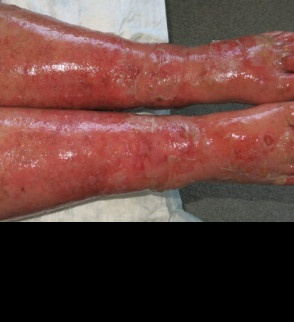SJS-TEN: (1, 94, 294, 215), (0, 4, 294, 109)
